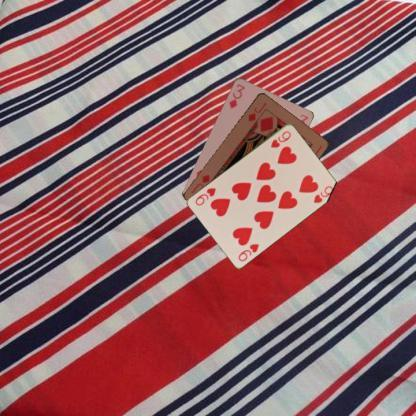3d: (226, 80, 247, 110)
9h: (236, 240, 260, 262), (268, 128, 292, 149)
Jd: (246, 100, 268, 122)
